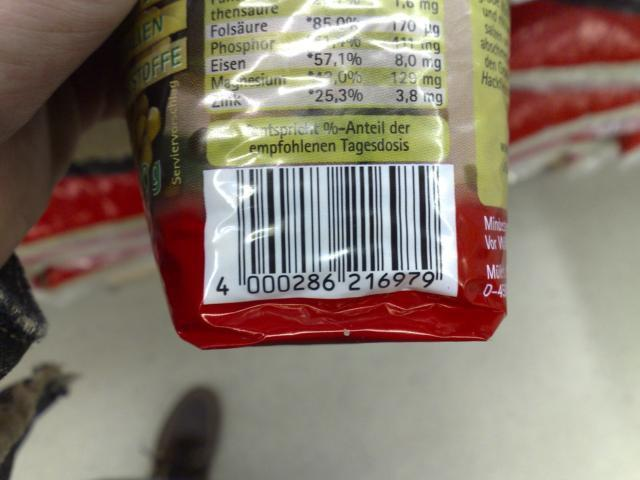Barcode: (199, 163, 457, 302)
